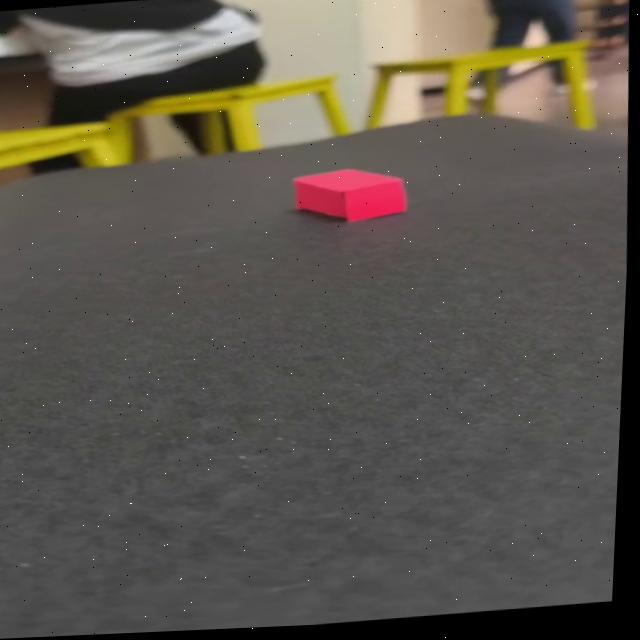red block: (287, 161, 409, 226)
